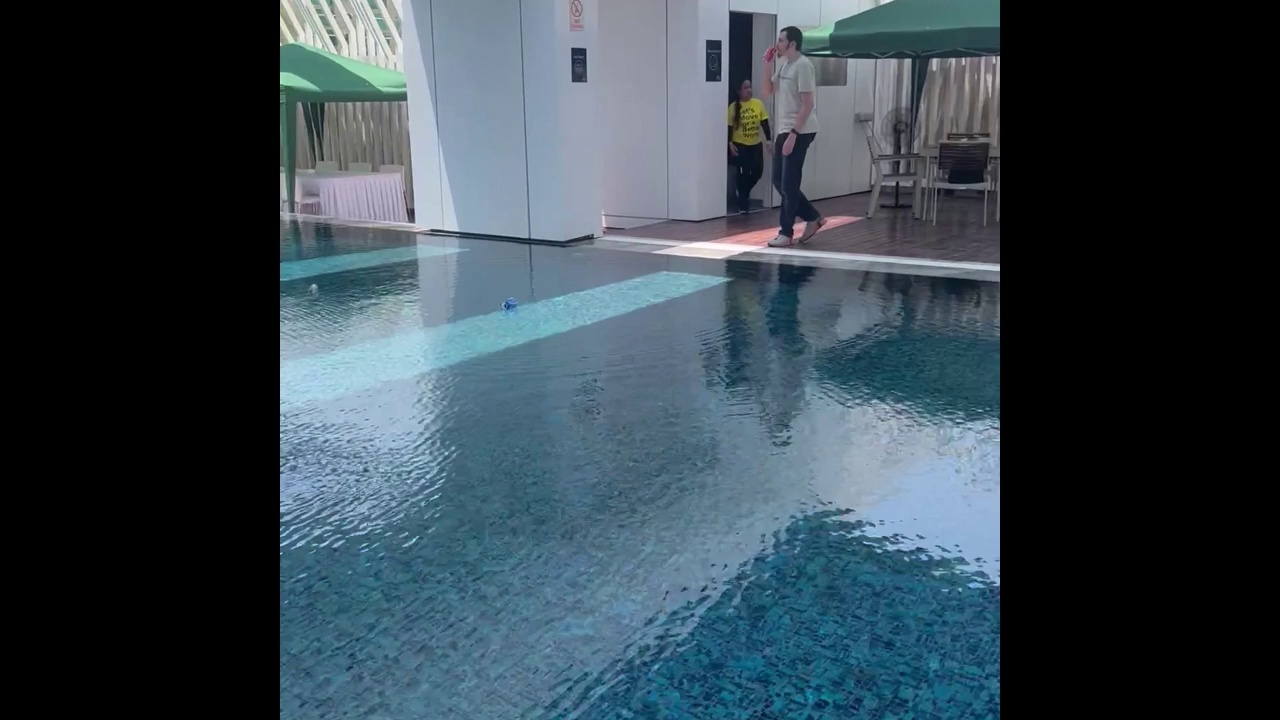debris: (498, 293, 518, 314), (761, 46, 778, 62), (305, 282, 320, 297)
